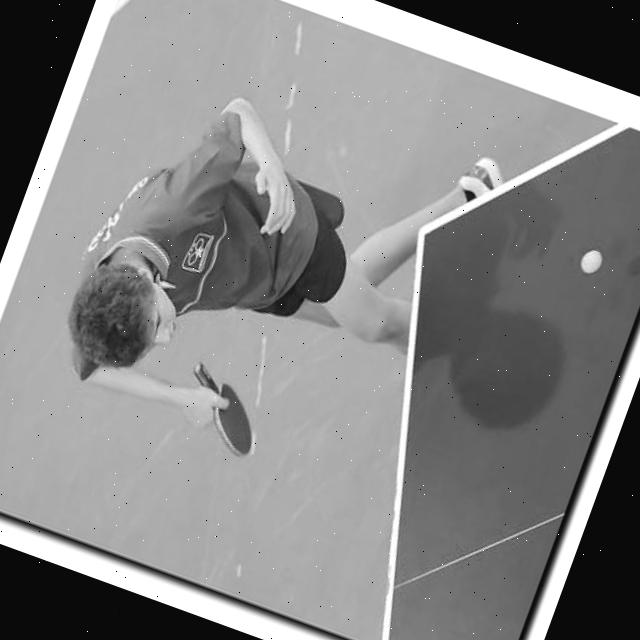ping-pong-ball: (576, 244, 606, 276)
